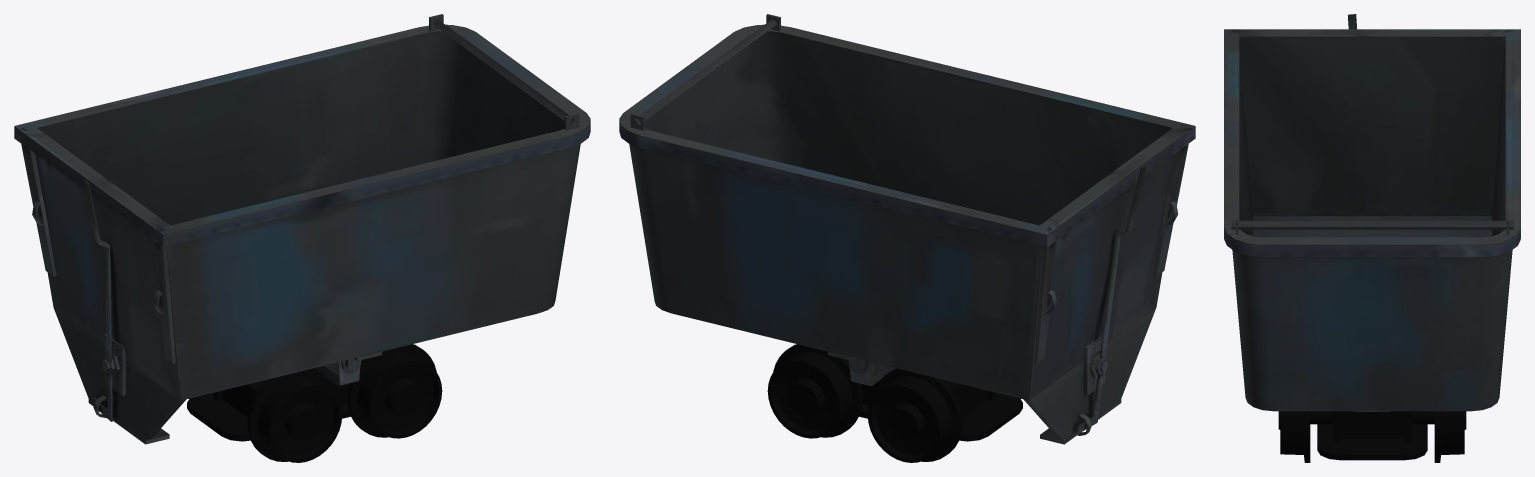
3 renders of one model, left to right at view 1: azimuth 30°, elevation 25°; view 2: azimuth 150°, elevation 25°; view 3: azimuth 270°, elevation 25°, orthographic.
Visible parts, largest first — view 1: body0_model0_lod0_mesh0; view 2: body0_model0_lod0_mesh0; view 3: body0_model0_lod0_mesh0.
Boxes of the visible parts, <box> form: body0_model0_lod0_mesh0: <box>14,14,590,462</box>; body0_model0_lod0_mesh0: <box>619,14,1195,462</box>; body0_model0_lod0_mesh0: <box>1224,14,1520,462</box>.
Size of the model in its own units: 92.93 by 60.58 by 52.57.
1 material, 1 textured.
